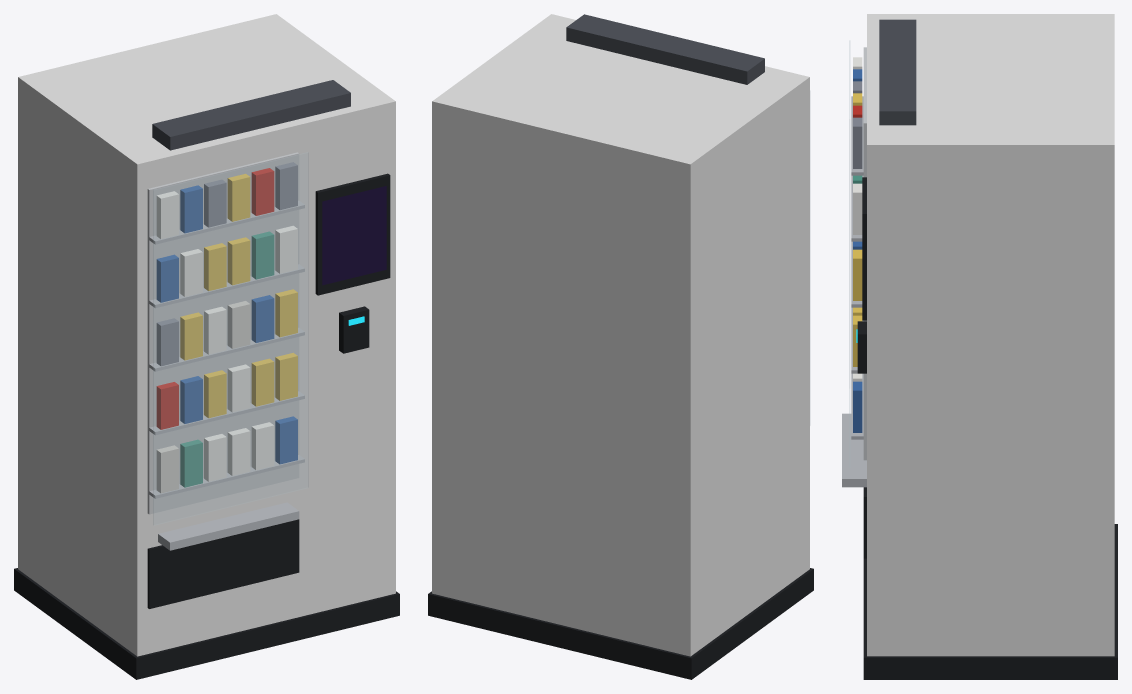
Rendered from Tech_Vending_Ramen.gltf.
3 renders of one model, left to right at view 1: azimuth 30°, elevation 25°; view 2: azimuth 150°, elevation 25°; view 3: azimuth 270°, elevation 25°, orthographic. The views are drawn at different scales.
Parts seen in each view (by area): view 1: Tech_Vending_Ramen_COL, Tech_Vending_Ramen; view 2: Tech_Vending_Ramen_COL, Tech_Vending_Ramen; view 3: Tech_Vending_Ramen_COL, Tech_Vending_Ramen.
Boxes of the visible parts, <box> form: Tech_Vending_Ramen_COL: <box>18,14,395,656</box>; Tech_Vending_Ramen: <box>14,80,399,679</box>; Tech_Vending_Ramen_COL: <box>432,14,809,656</box>; Tech_Vending_Ramen: <box>428,14,813,679</box>; Tech_Vending_Ramen_COL: <box>867,14,1114,656</box>; Tech_Vending_Ramen: <box>842,19,1117,679</box>.
Size of the model in its own units: 1.02 by 1.95 by 0.89.
